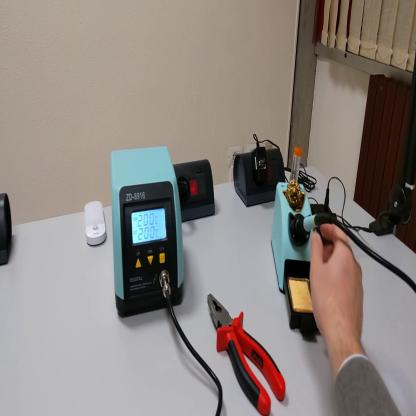hand: (310, 221, 366, 345)
pliers: (207, 295, 286, 414)
socket: (233, 143, 286, 207), (172, 160, 216, 222)
welder base: (274, 179, 326, 344)
welder probe tip: (294, 212, 333, 239)
welder station: (110, 147, 187, 319)
